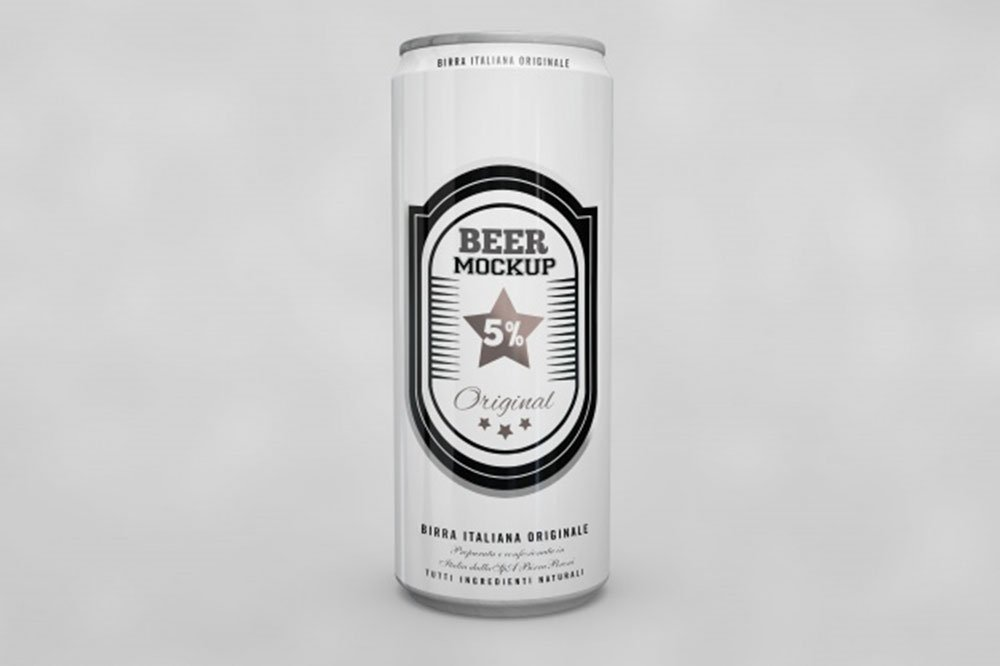beer can: (390, 32, 612, 616)
